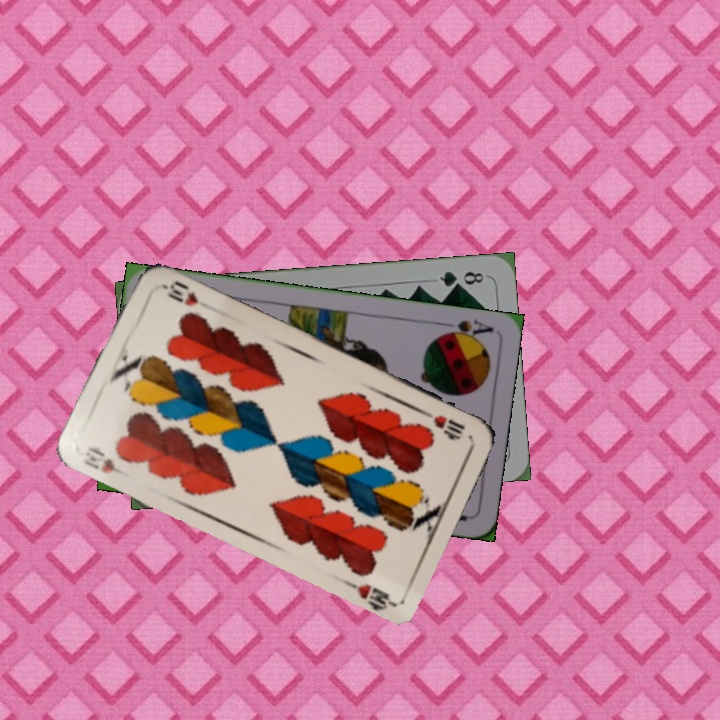G8: (435, 267, 487, 291)
H10: (80, 442, 132, 480), (418, 406, 468, 441)
SA: (435, 315, 495, 343)
